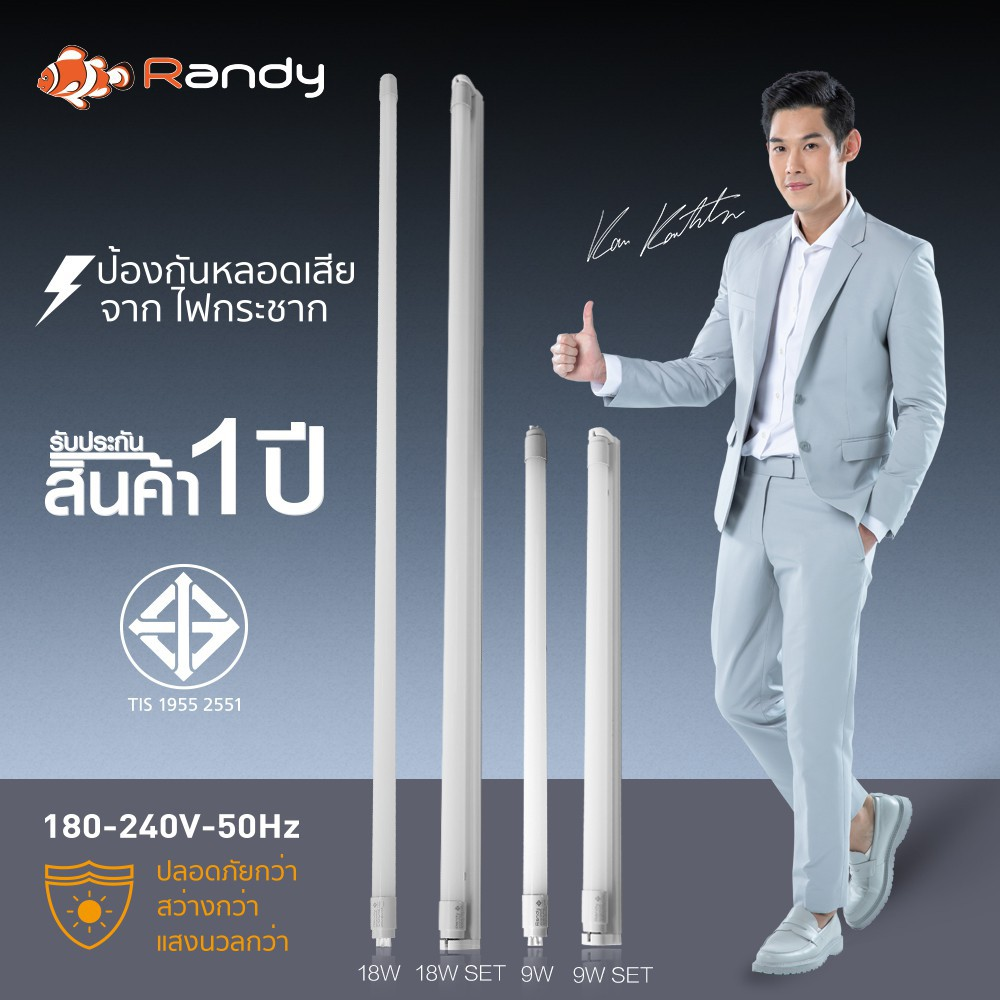Light_bulb: (437, 63, 494, 949), (364, 64, 408, 949), (579, 425, 634, 948), (513, 421, 558, 948)
